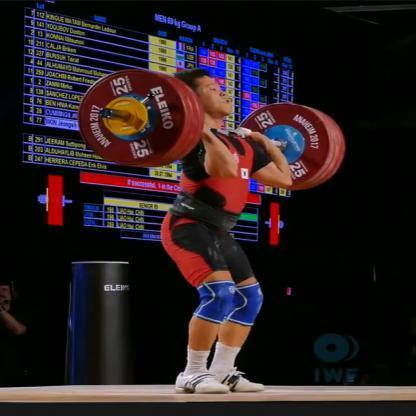barbell: (77, 68, 346, 188)
